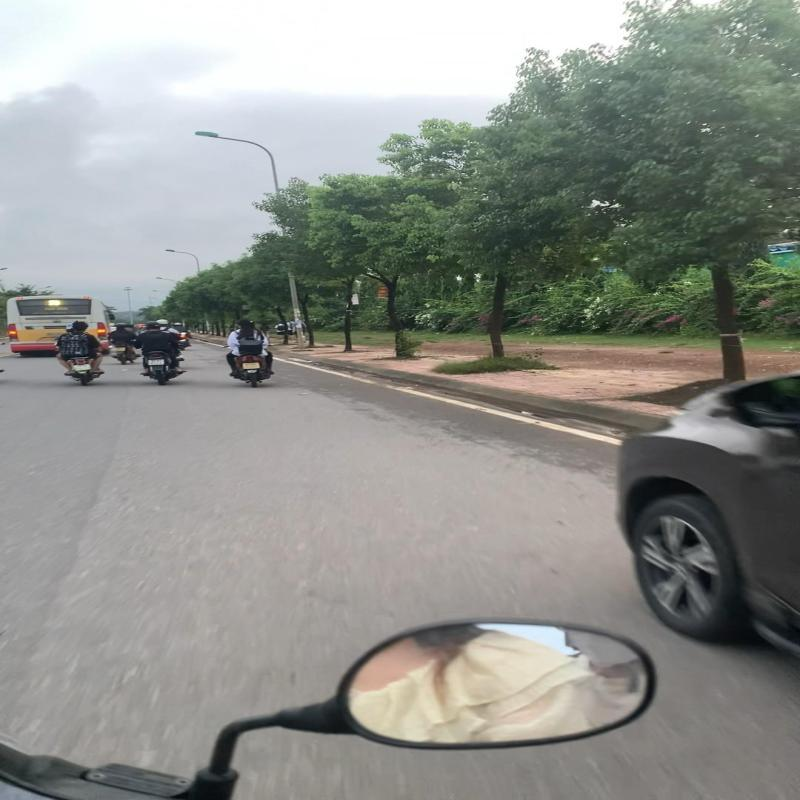nohelmet: (71, 320, 90, 332)
